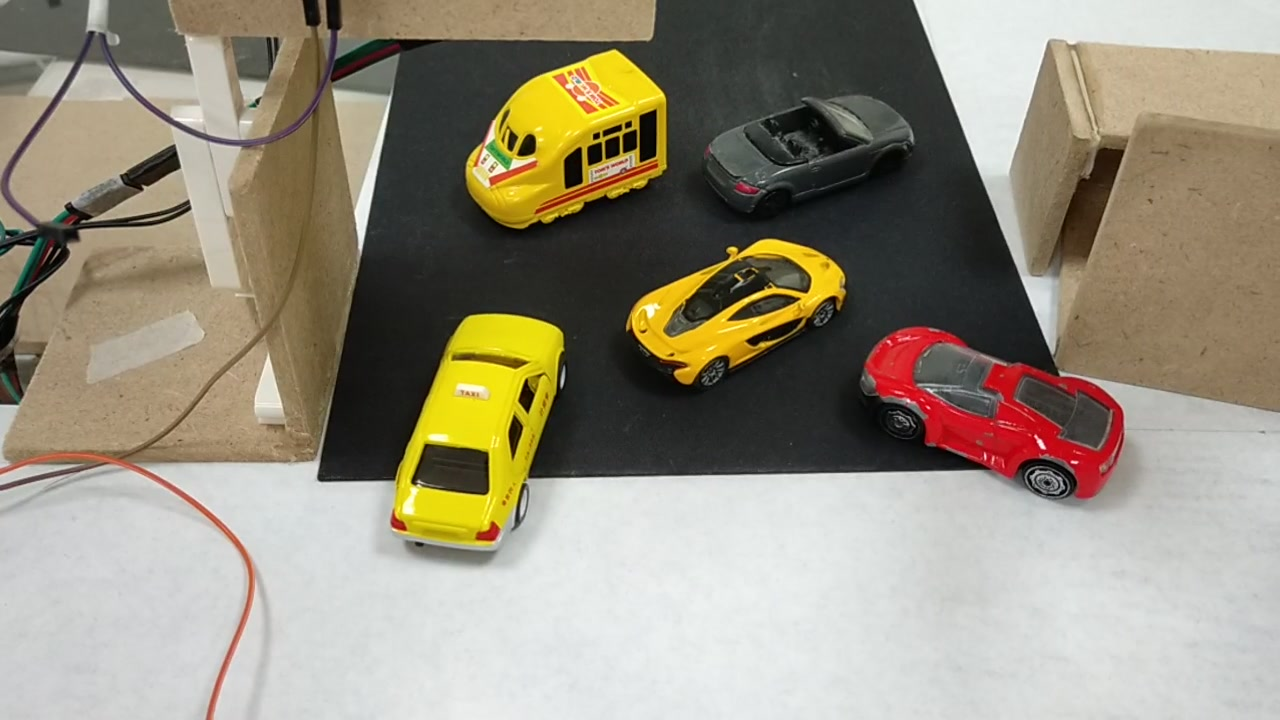car: (856, 321, 1119, 505), (385, 316, 573, 545), (634, 248, 850, 390), (695, 88, 922, 218)
